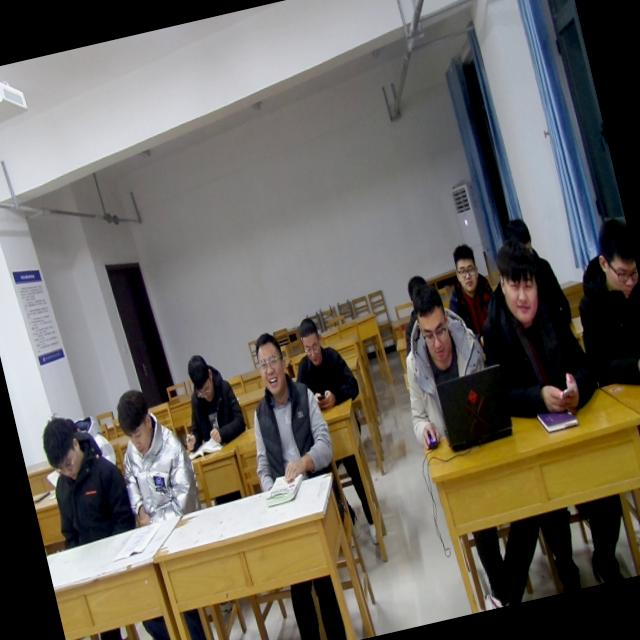down: (403, 276, 458, 369), (586, 206, 640, 297), (33, 409, 93, 488), (110, 382, 162, 460), (290, 310, 331, 370), (180, 344, 218, 406)
lookup: (484, 231, 552, 332), (245, 322, 292, 398), (444, 238, 484, 294)
sit: (458, 230, 598, 430), (382, 271, 501, 453), (226, 320, 344, 496), (103, 378, 206, 534), (34, 402, 138, 552), (558, 218, 640, 397), (433, 235, 515, 366), (166, 344, 252, 455), (495, 210, 573, 322), (282, 308, 363, 413)
